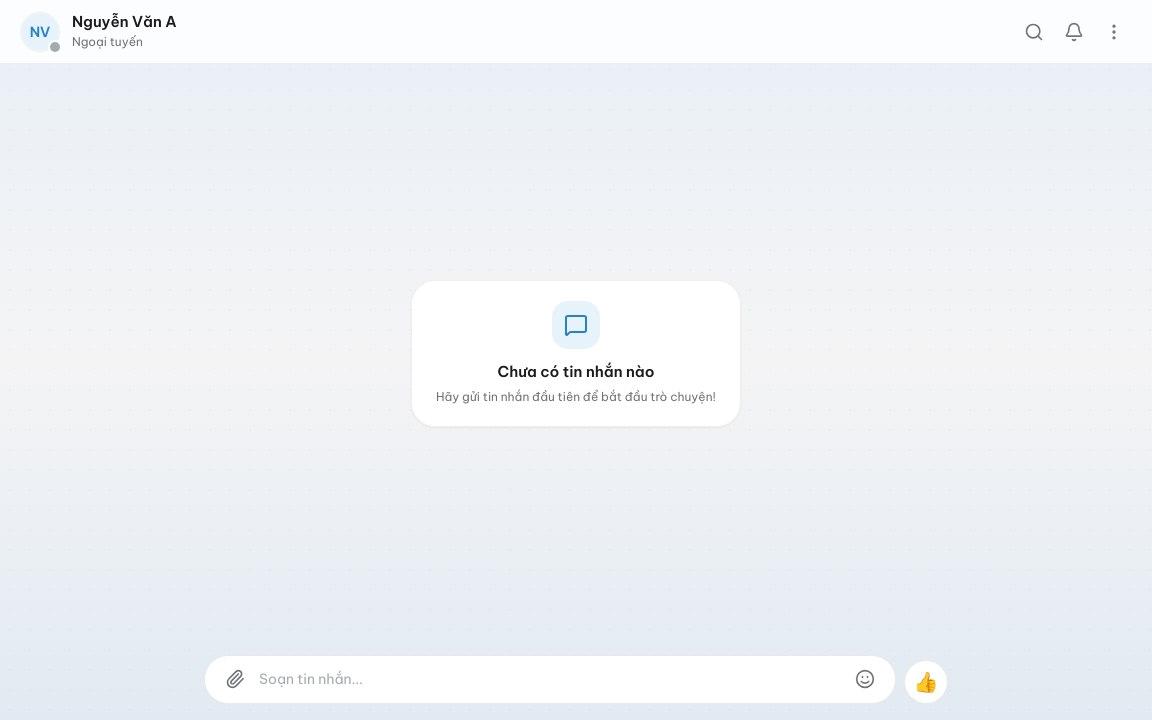
Test: ActiveChatCanvas - block lock, menu actions, realtime join › FR-48 header menu › block via menu: confirm -> friends API -> composer locked as BLOCKED_BY_ME
What coordinates should you click on to do the following:
click the button named "Tùy chọn hội thoại"
I would click on:
 (1114, 32)
Its box is [1096,14,1132,50].
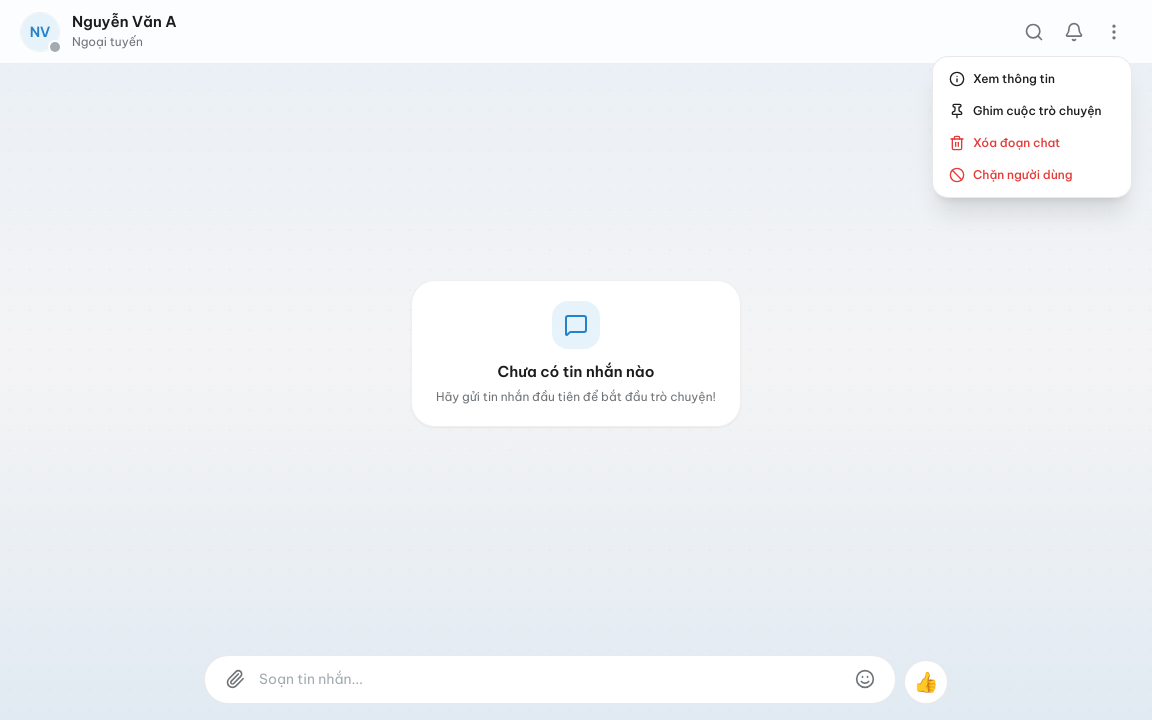
What coordinates should you click on to do the following:
click the menu item "Chặn người dùng"
I would click on:
 (1011, 175)
Its box is [949,167,1073,183].
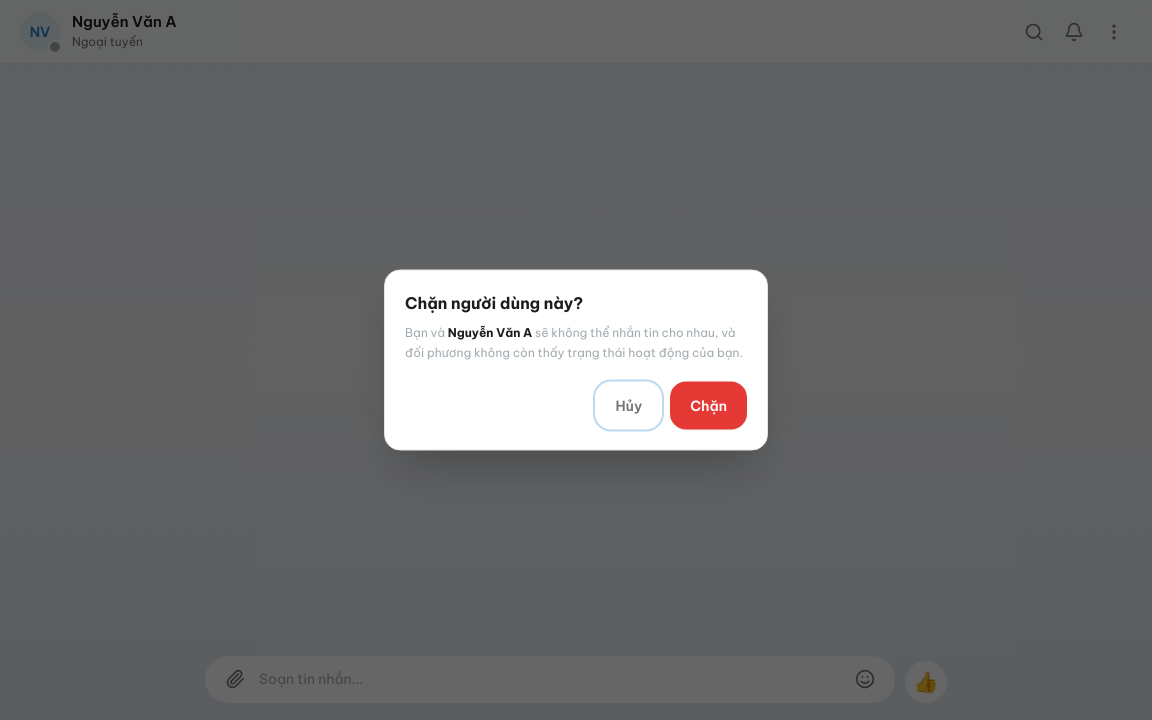
What coordinates should you click on to do the following:
click the button with test id "confirm-block-user-submit"
I would click on:
 (709, 406)
Its box is [670,382,747,430].
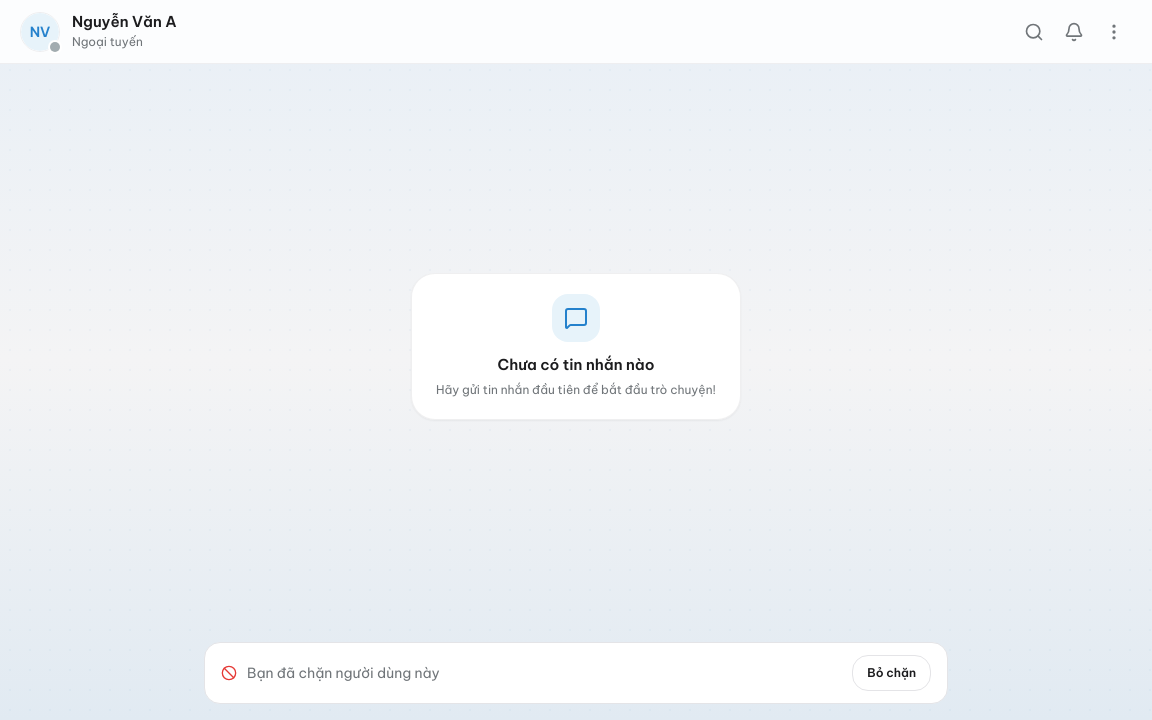
Now the message "Bạn đã chặn người dùng này Bỏ chặn" is shown, box [192,630,960,719]
